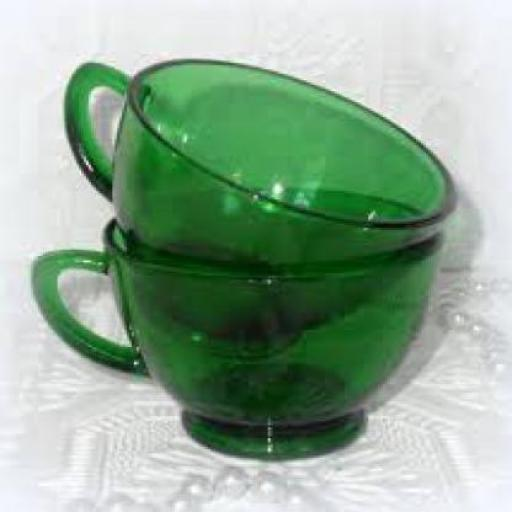glass: (29, 184, 442, 456), (62, 54, 452, 296)
